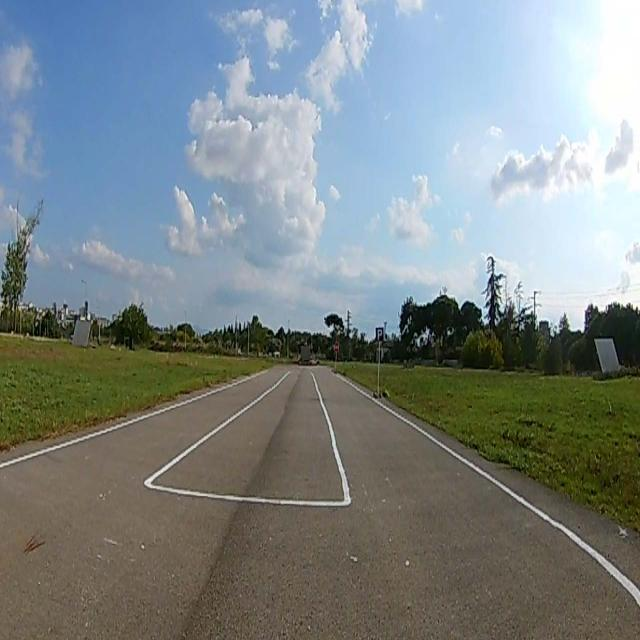park: (376, 328, 383, 341)
